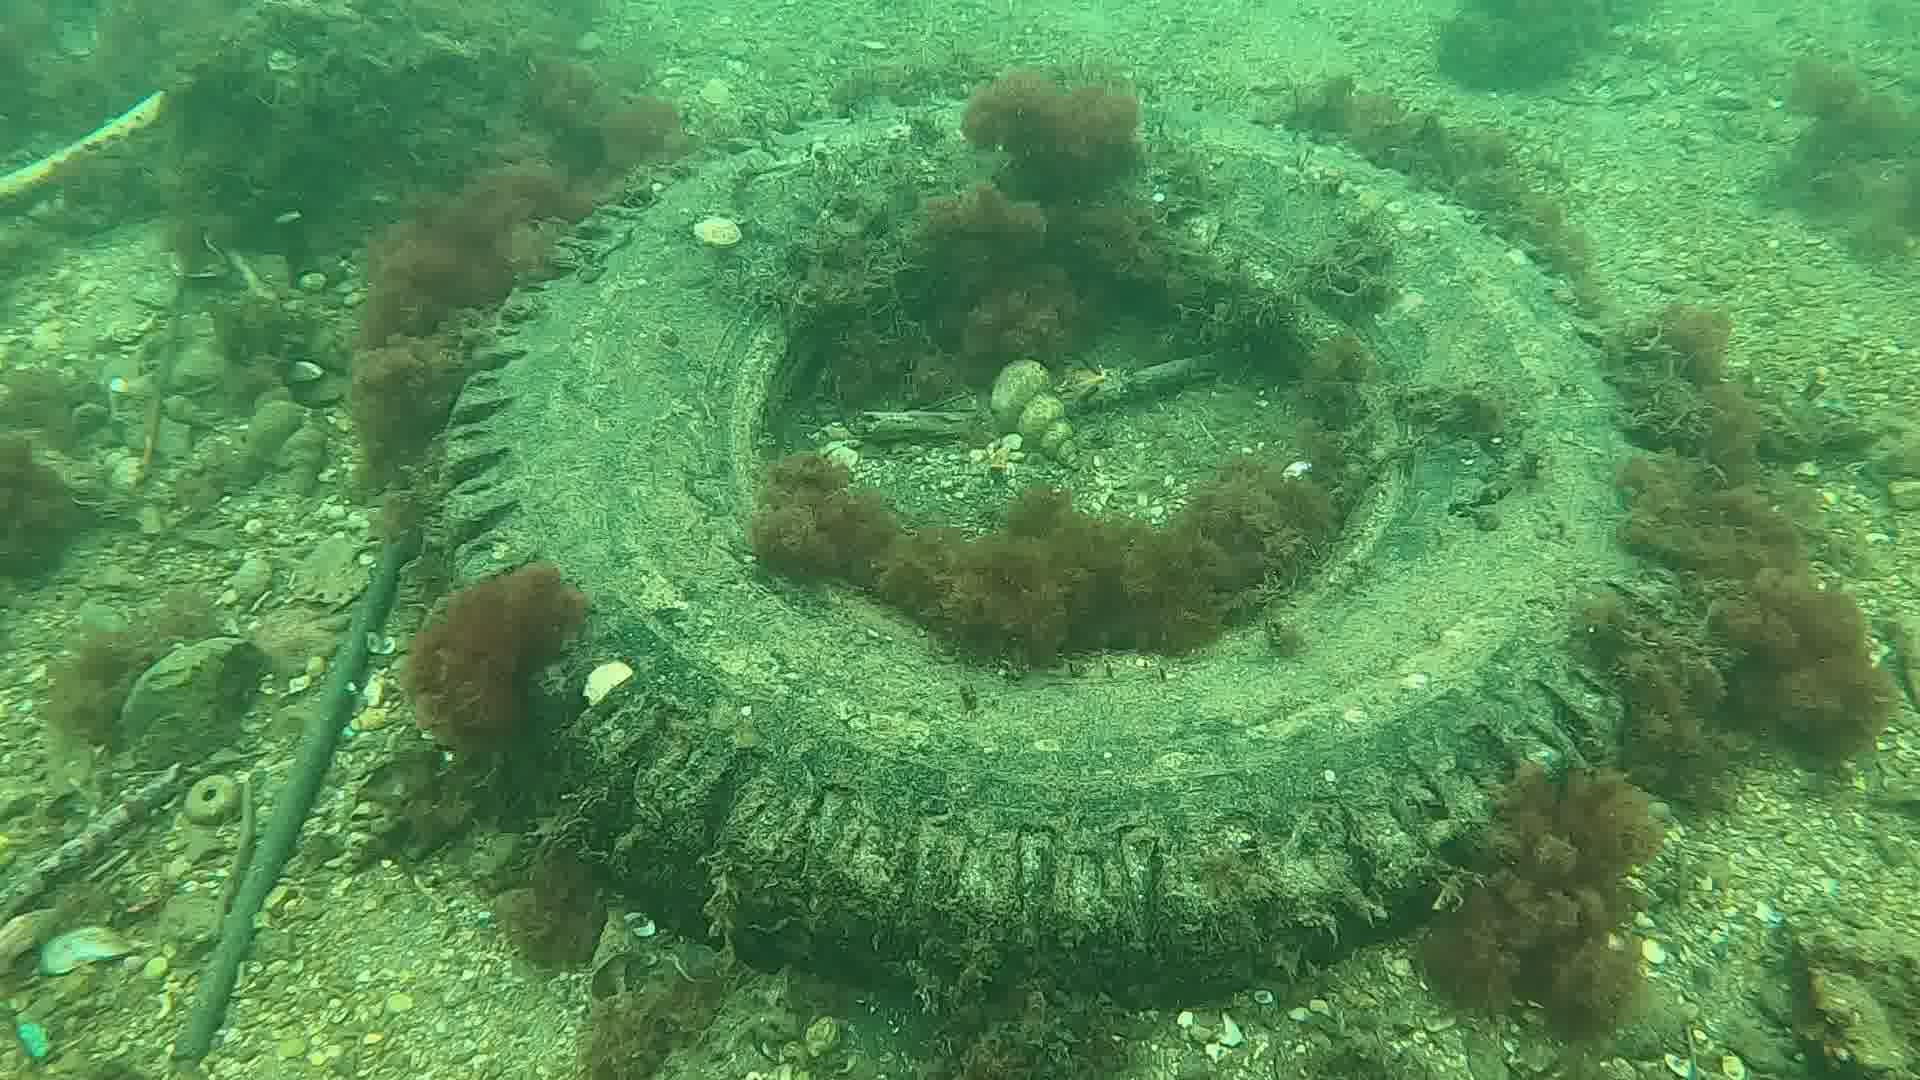tire: (448, 95, 1671, 1007)
